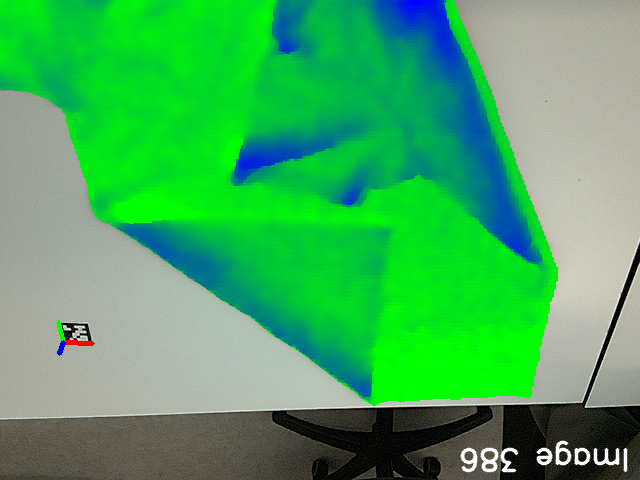V: (341, 213, 403, 263)
